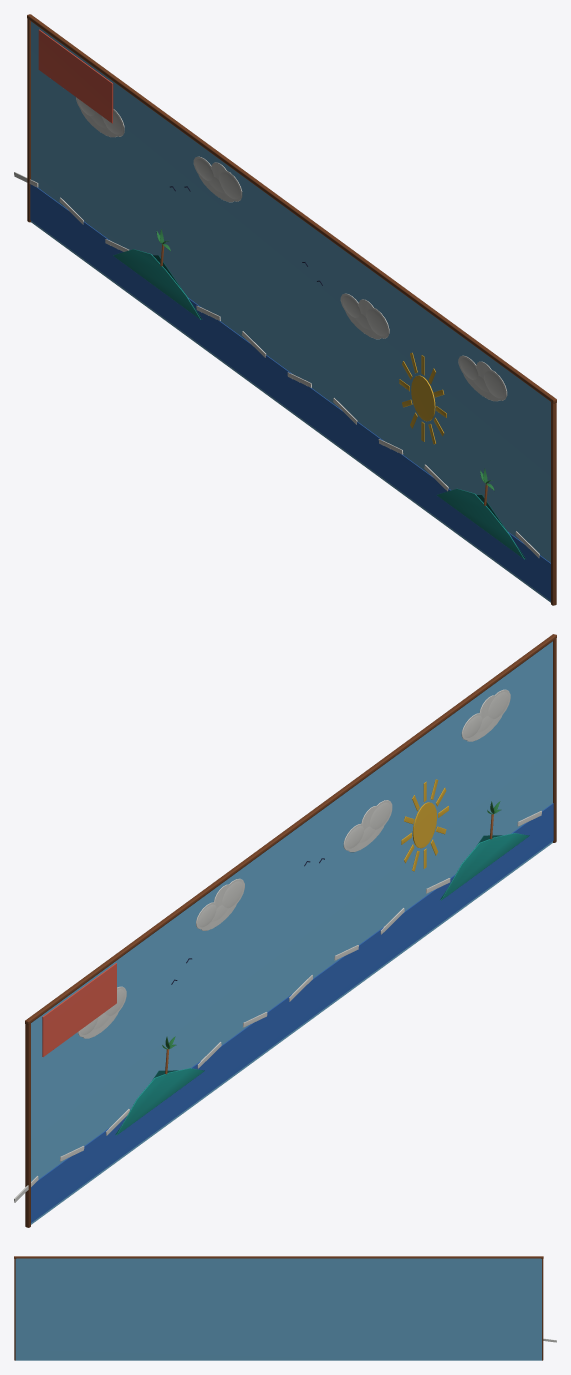
File: SM_Tank_Backdrop.fbx
3 views of the same model, one above another, from view 1: azimuth 30°, elevation 25°; view 2: azimuth 150°, elevation 25°; view 3: azimuth 270°, elevation 25° (orthographic). The views are drawn at different scales.
Parts seen in each view (by area): view 1: SM_Tank_Backdrop; view 2: SM_Tank_Backdrop; view 3: SM_Tank_Backdrop.
Boxes of the visible parts, x1,y1,x2,y2 form: SM_Tank_Backdrop: (14,14,556,605); SM_Tank_Backdrop: (14,634,556,1227); SM_Tank_Backdrop: (14,1256,556,1360).
Bounding box in the file's own units: 30.09 × 774 × 3670.
